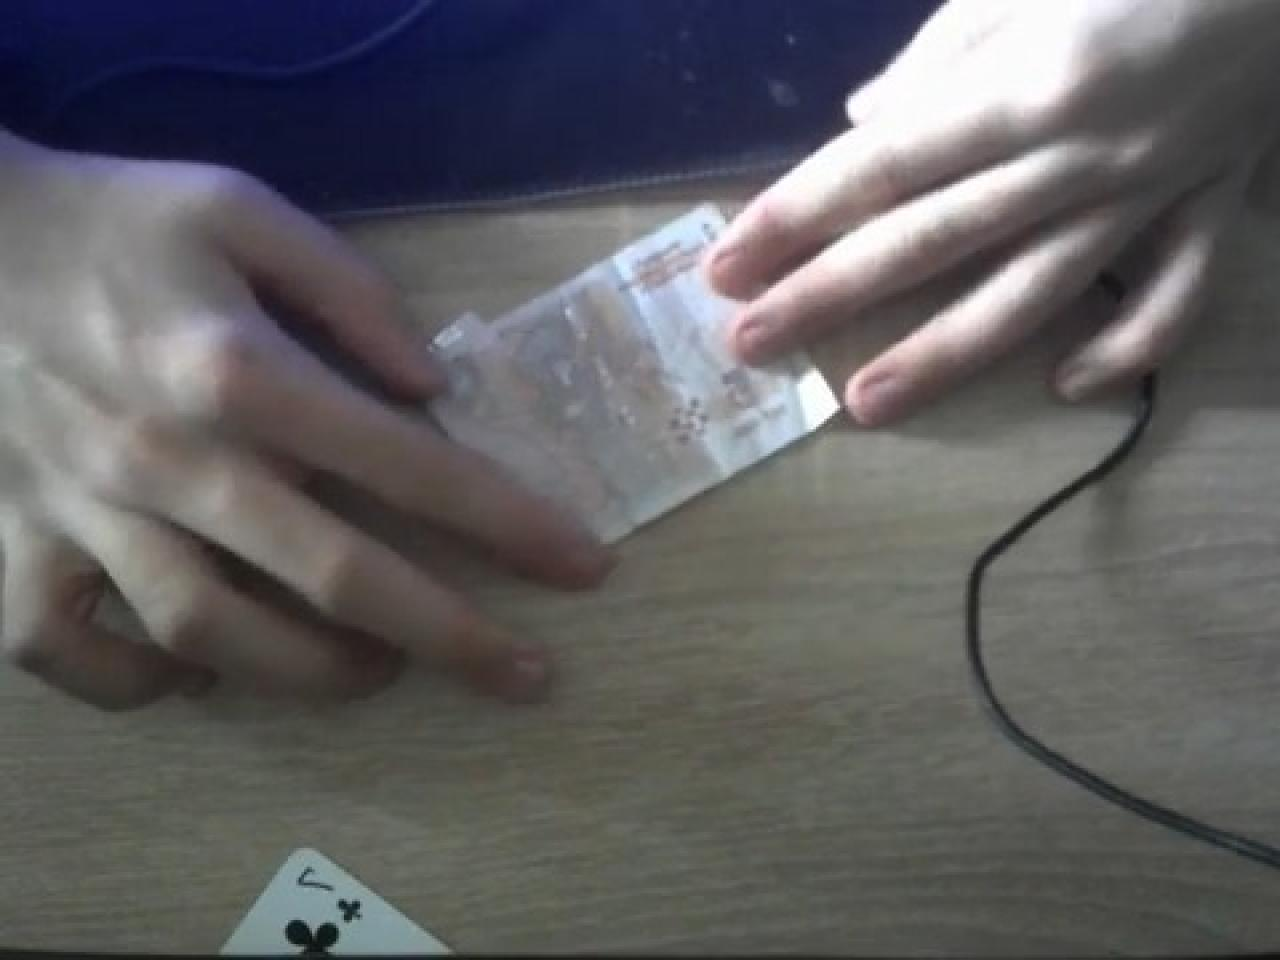5leva: (432, 206, 843, 544)
